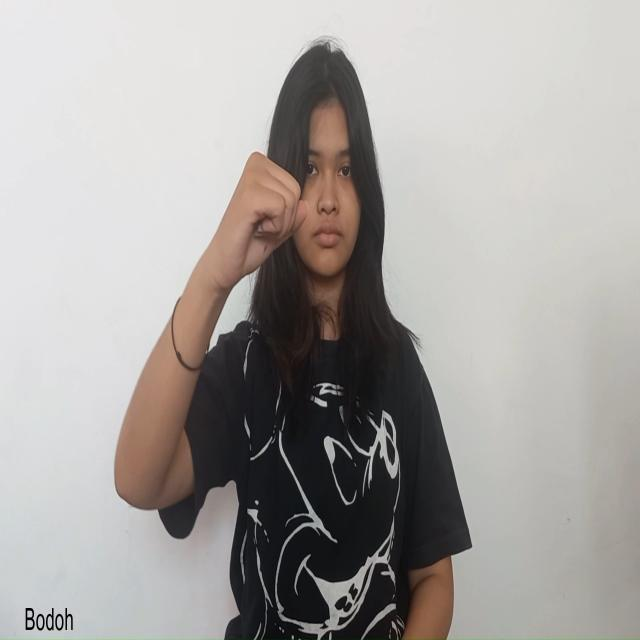Bodoh -BISINDO-: (210, 148, 311, 292)
